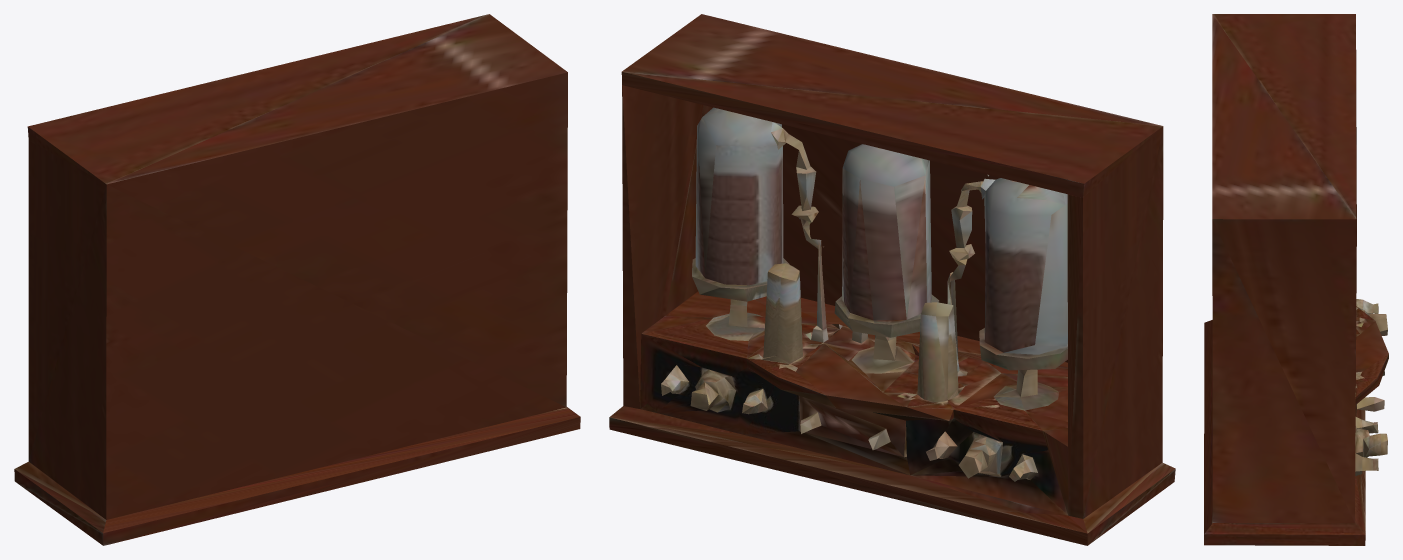
Rendered from mj-marconi-transmitter.lod1.glb.
3 renders of one model, left to right at view 1: azimuth 30°, elevation 25°; view 2: azimuth 150°, elevation 25°; view 3: azimuth 270°, elevation 25°, orthographic. The views are drawn at different scales.
Parts seen in each view (by area): view 1: mj-marconi-transmitter; view 2: mj-marconi-transmitter; view 3: mj-marconi-transmitter.
Boxes of the visible parts, x1=… form: mj-marconi-transmitter: x1=14, y1=14, x2=580, y2=545; mj-marconi-transmitter: x1=609, y1=14, x2=1175, y2=545; mj-marconi-transmitter: x1=1204, y1=14, x2=1388, y2=545.
Size of the model in its own units: 1.68 by 1.2 by 0.6202.
Materials: 1 (1 with a texture image).
